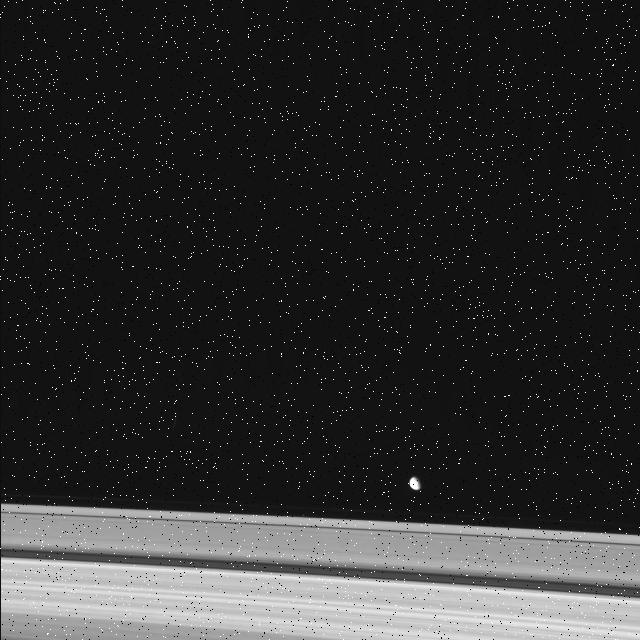Saturn: (0, 500, 640, 640)
